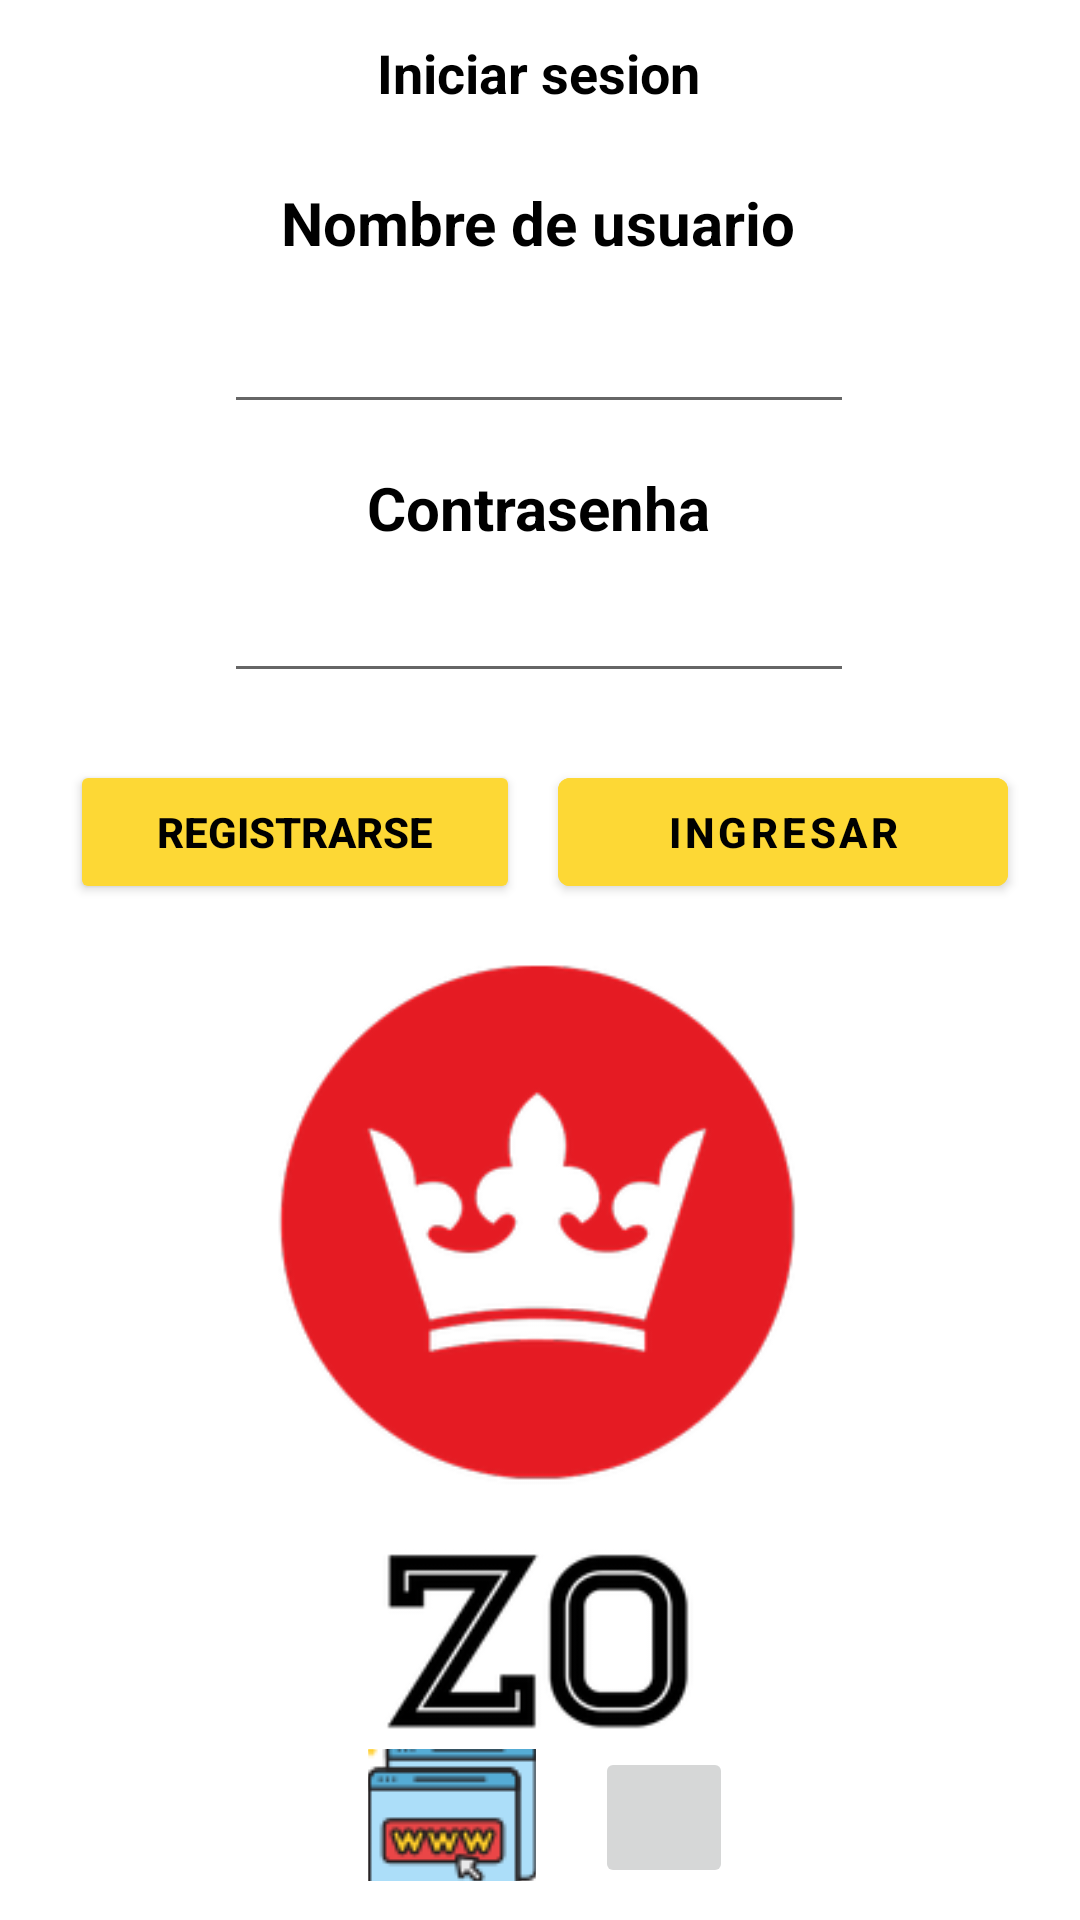

Screen size 1080w x 1920h. Icon name, then its box in pixels as (x1, y1, x2, y2):
web: (368, 1749, 536, 1881)
